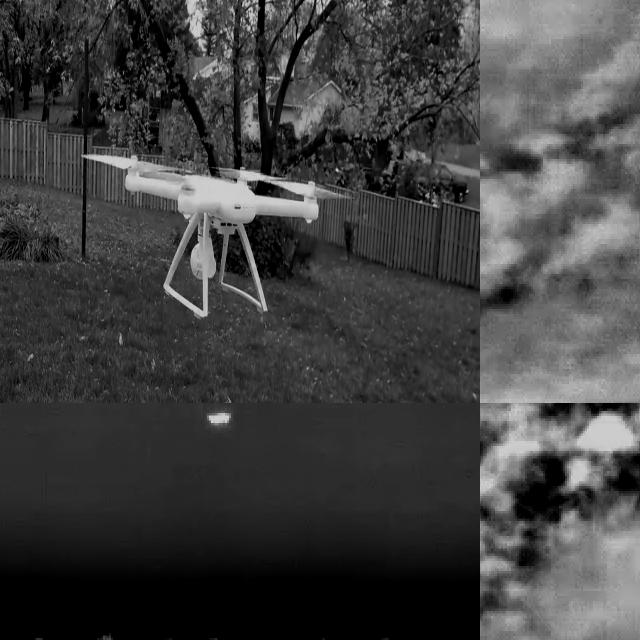1: (195, 406, 239, 438)
drone: (100, 160, 318, 320)
